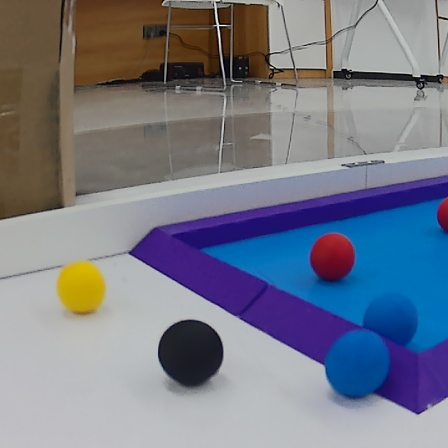black: (147, 315, 232, 389)
blue: (324, 328, 393, 400), (359, 293, 422, 349)
blue_aim: (120, 172, 448, 416)
red: (307, 232, 360, 285)
yellow: (55, 256, 111, 321)
